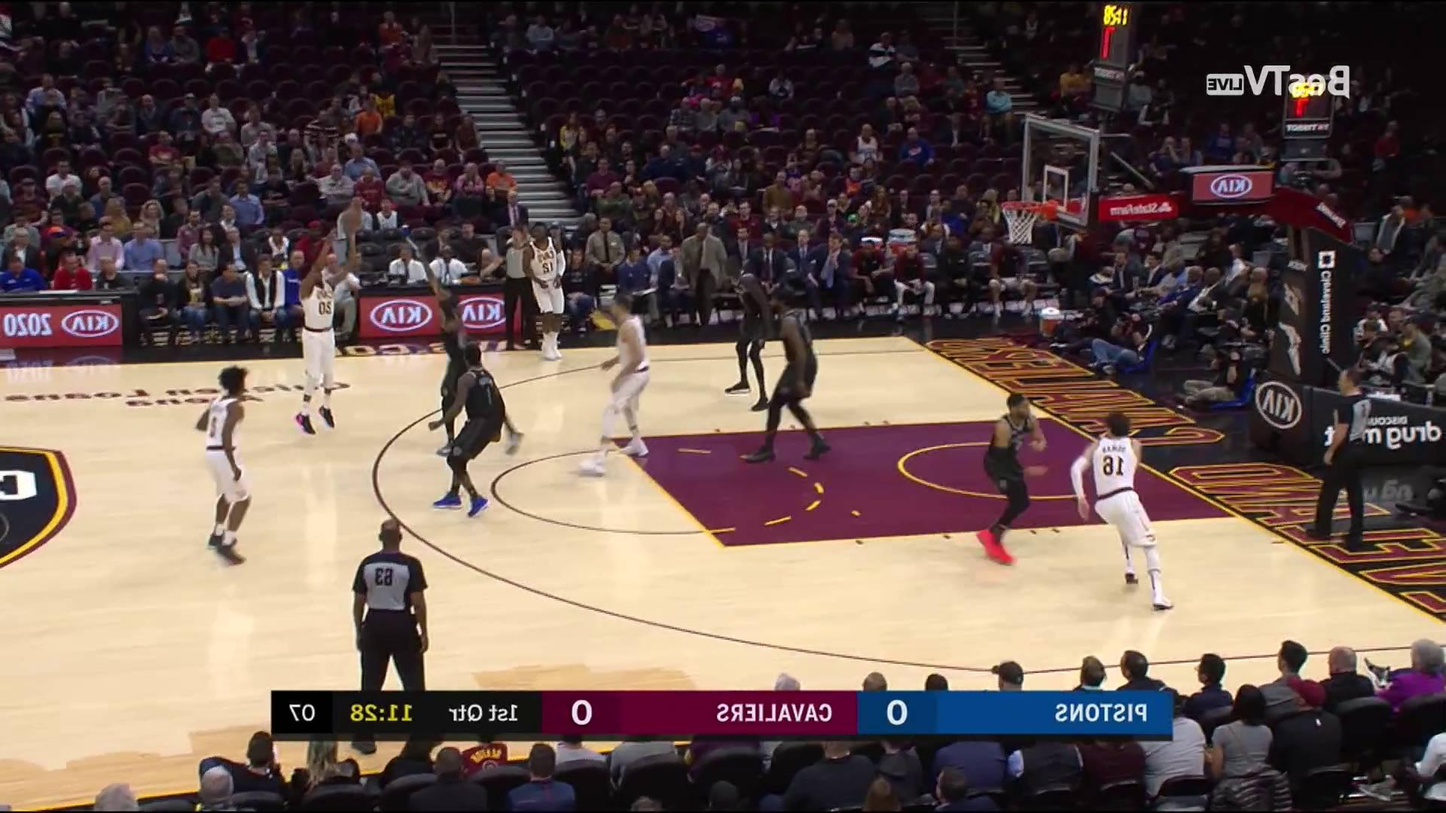basketball: (338, 212, 364, 236)
